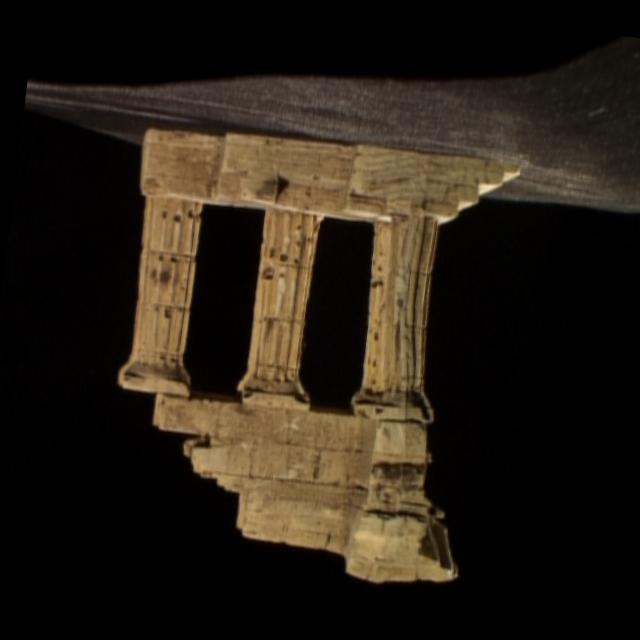Instance-Segmentation: (120, 127, 518, 580)
